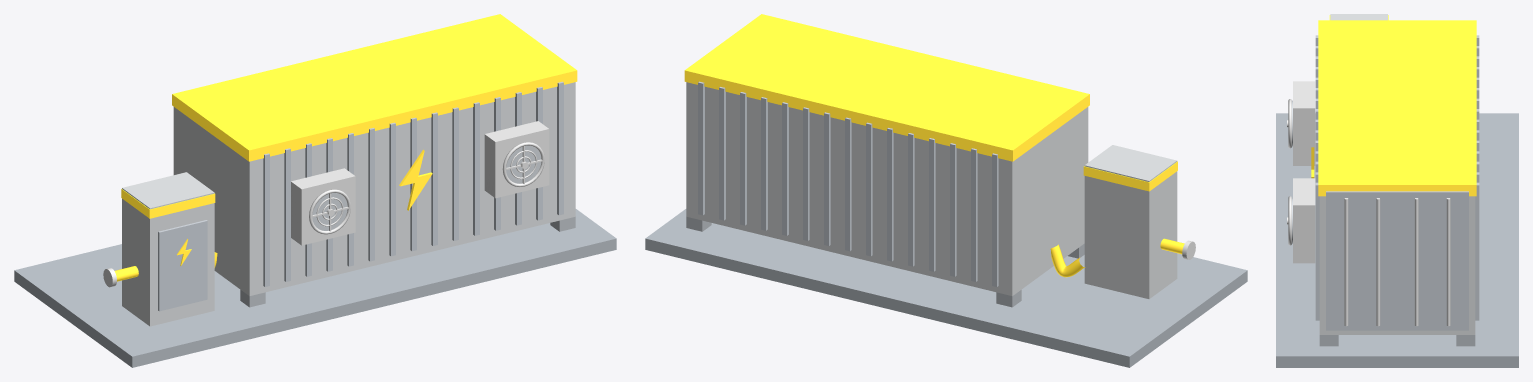
The model's file is Battery-container.glb.
The picture shows the model from 3 angles, left to right: view 1: azimuth 30°, elevation 25°; view 2: azimuth 150°, elevation 25°; view 3: azimuth 270°, elevation 25°; orthographic projection. The views are drawn at different scales.
Parts seen in each view (by area): view 1: container, band (×2), plinth, rib (×10), inverter, cooling_unit (×2), door, fan (×2), badge_bolt; view 2: container, band (×2), plinth, rib (×15), inverter, cable; view 3: band, plinth, doors, cooling_unit (×2), container, lock_bar (×4), rib (×2), fan (×2), corner_block (×2), inverter.
Boxes of the visible parts, x1,y1,x2,y2 form: container: [173, 82, 575, 296]; band (×2): [121, 14, 577, 218]; plinth: [14, 209, 616, 367]; rib (×10): [263, 81, 563, 286]; inverter: [122, 172, 214, 326]; cooling_unit (×2): [291, 121, 549, 245]; door: [158, 220, 207, 311]; fan (×2): [309, 142, 544, 234]; badge_bolt: [399, 149, 432, 210]; container: [686, 82, 1088, 296]; band (×2): [684, 14, 1177, 191]; plinth: [645, 209, 1247, 367]; rib (×15): [698, 81, 998, 286]; inverter: [1084, 145, 1177, 298]; cable: [1050, 244, 1085, 277]; band: [1318, 20, 1476, 196]; plinth: [1276, 113, 1518, 367]; doors: [1326, 191, 1468, 330]; cooling_unit (×2): [1293, 81, 1315, 263]; container: [1319, 196, 1475, 334]; lock_bar (×4): [1344, 198, 1450, 326]; rib (×2): [1315, 182, 1479, 320]; fan (×2): [1287, 99, 1292, 245]; corner_block (×2): [1319, 335, 1475, 346]; inverter: [1330, 14, 1387, 20].
Size of the model in its own units: 9 by 3 by 3.8.
